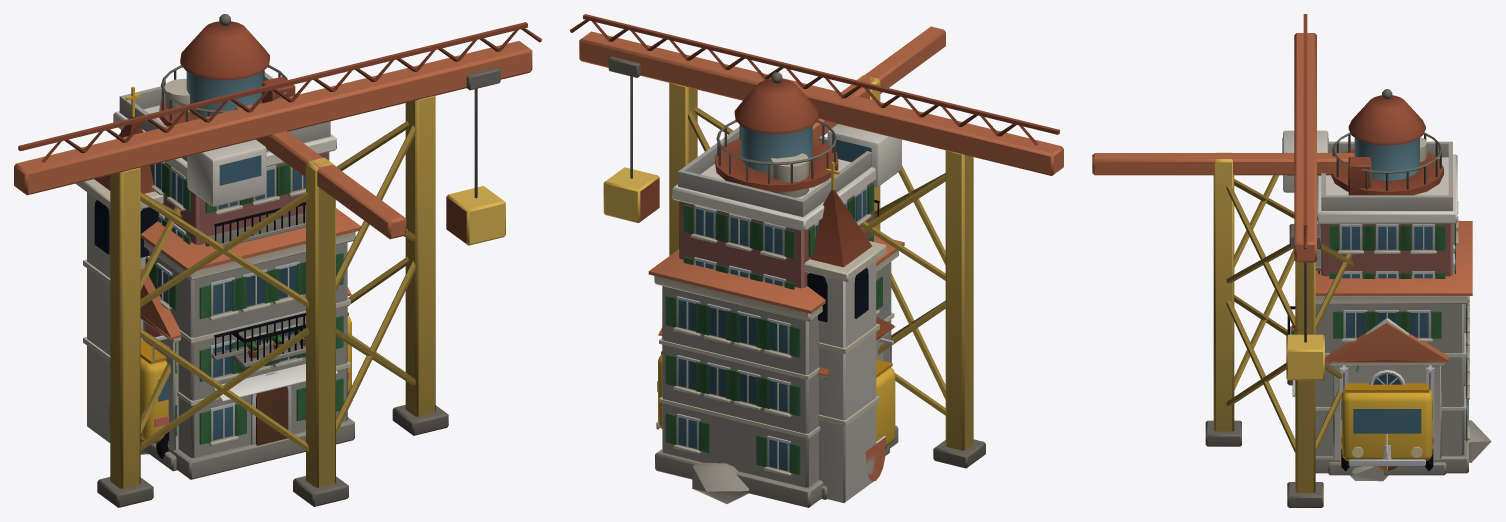
File: kit-portomarina.glb
3 views of the same model, side by side, from view 1: azimuth 30°, elevation 25°; view 2: azimuth 150°, elevation 25°; view 3: azimuth 270°, elevation 25° (orthographic). The views are drawn at different scales.
Parts seen in each view (by area): view 1: gru, palazzo, palazzo-alto, chiesa, faro, oro-bus; view 2: gru, palazzo, palazzo-alto, chiesa, faro, oro-bus, veliero; view 3: gru, palazzo, palazzo-alto, faro, oro-bus, chiesa.
Boxes of the visible parts, <box> form: gru: <box>14,22,541,507</box>; palazzo: <box>140,208,360,479</box>; palazzo-alto: <box>113,72,337,401</box>; chiesa: <box>76,86,351,471</box>; faro: <box>140,14,287,454</box>; oro-bus: <box>140,291,351,458</box>; gru: <box>570,14,1063,468</box>; palazzo: <box>648,235,904,507</box>; palazzo-alto: <box>672,126,879,289</box>; chiesa: <box>658,162,895,502</box>; faro: <box>692,72,838,503</box>; oro-bus: <box>656,331,895,449</box>; veliero: <box>865,436,886,481</box>; gru: <box>1092,14,1354,507</box>; palazzo: <box>1287,220,1472,473</box>; palazzo-alto: <box>1292,137,1458,396</box>; faro: <box>1331,89,1491,481</box>; oro-bus: <box>1341,365,1433,471</box>; chiesa: <box>1325,318,1449,475</box>.
Size of the model in its own units: 11.33 by 8.85 by 8.8.
